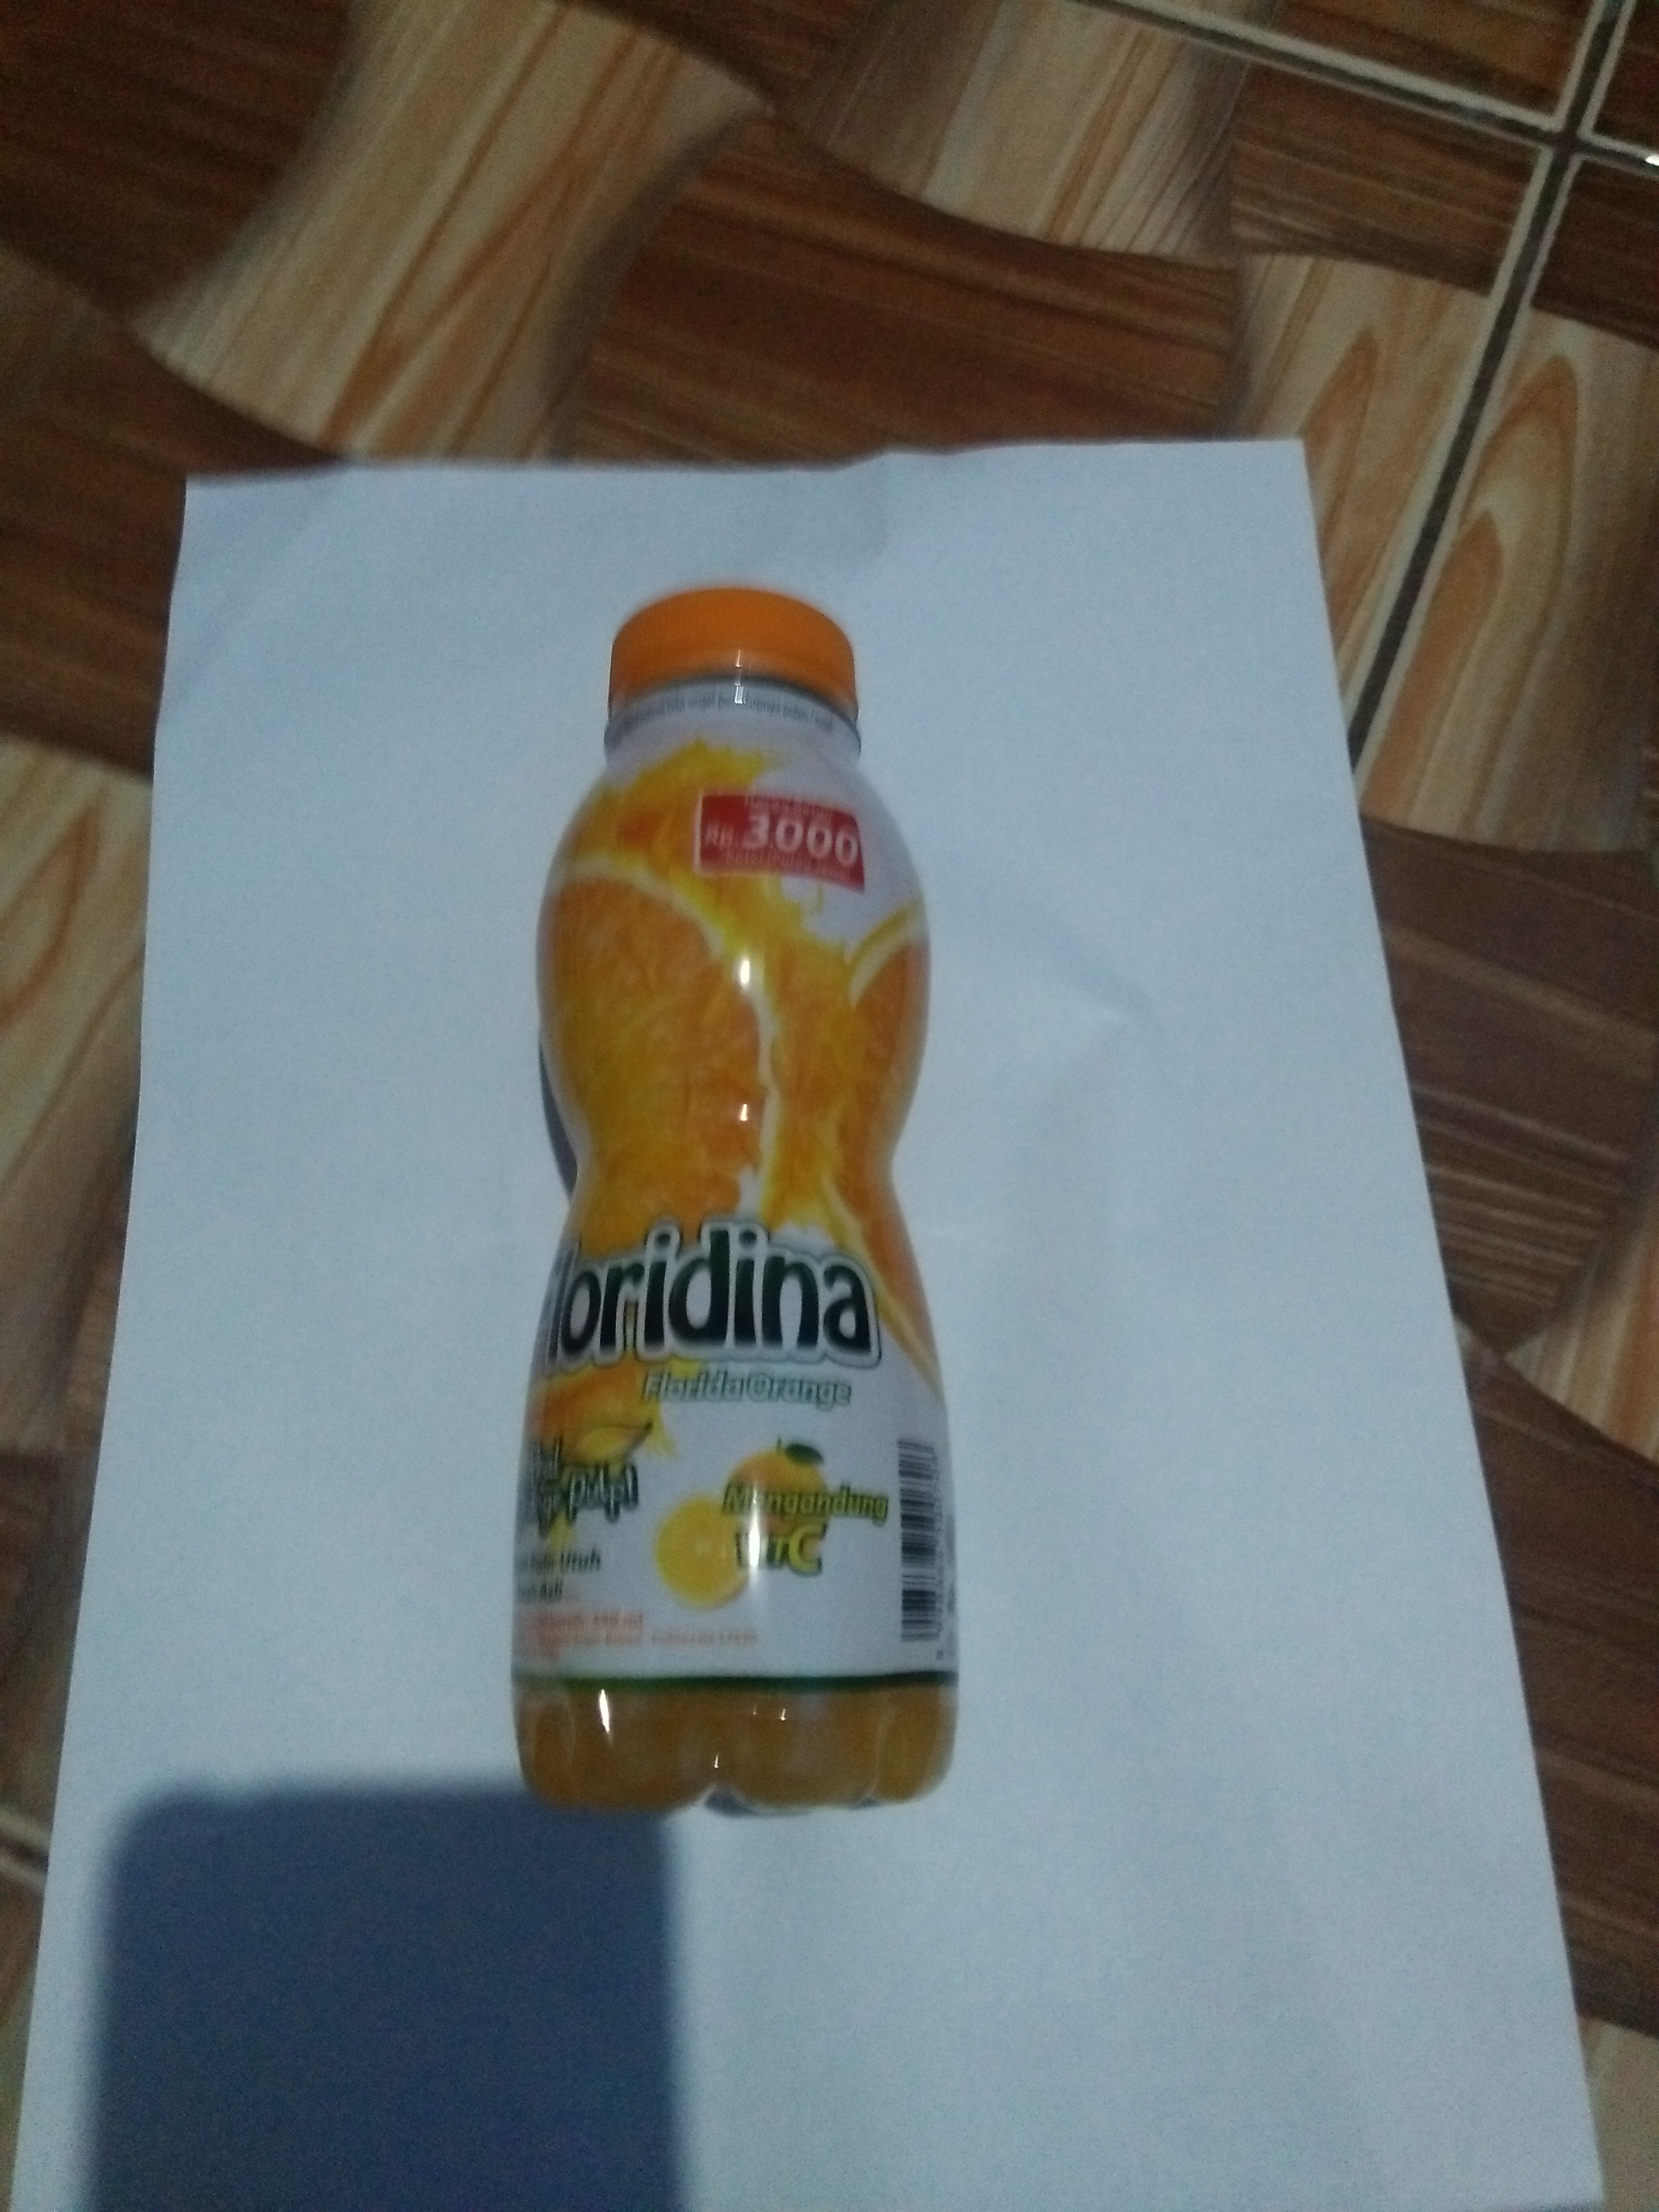Floridina: (498, 577, 1018, 1841)
